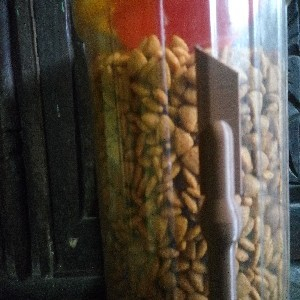cutter: (191, 44, 244, 300)
